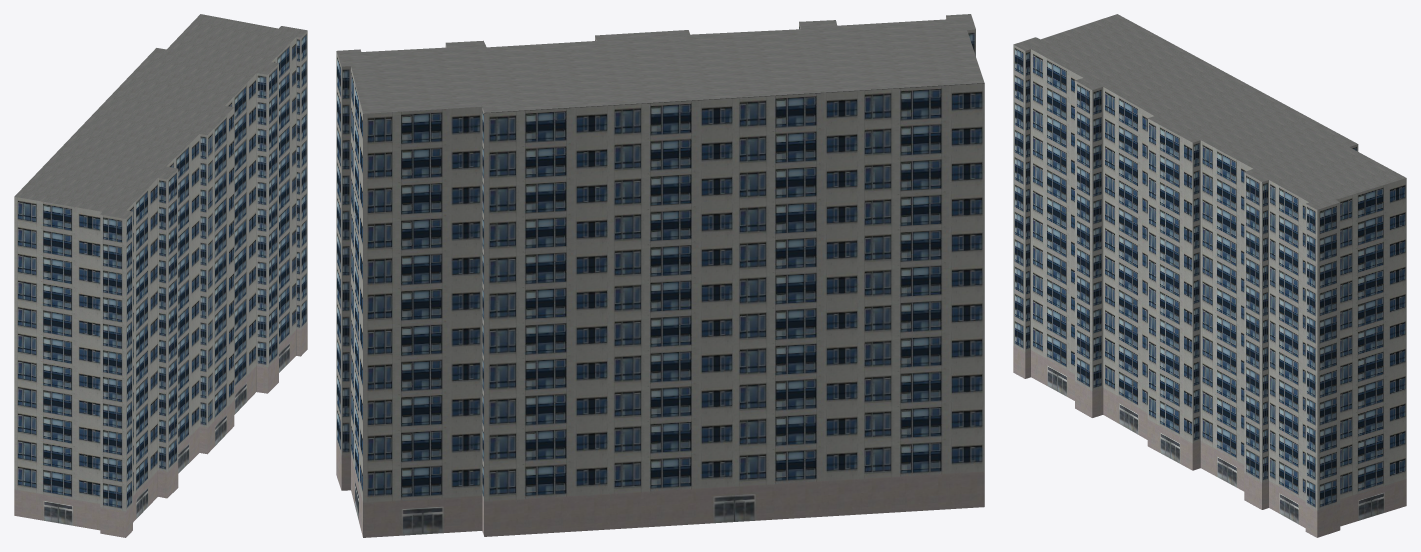
The picture shows the model from 3 angles, left to right: view 1: azimuth 30°, elevation 25°; view 2: azimuth 150°, elevation 25°; view 3: azimuth 270°, elevation 25°; orthographic projection. The views are drawn at different scales.
Parts seen in each view (by area): view 1: BuildingMaster_1978192950684464188700000000_0, BuildingMaster_1978192950684464188700000000_1; view 2: BuildingMaster_1978192950684464188700000000_0, BuildingMaster_1978192950684464188700000000_1; view 3: BuildingMaster_1978192950684464188700000000_0, BuildingMaster_1978192950684464188700000000_1.
Boxes of the visible parts, x1,y1,x2,y2 form: BuildingMaster_1978192950684464188700000000_0: [14, 31, 307, 537]; BuildingMaster_1978192950684464188700000000_1: [14, 14, 307, 218]; BuildingMaster_1978192950684464188700000000_0: [336, 16, 984, 537]; BuildingMaster_1978192950684464188700000000_1: [336, 14, 984, 113]; BuildingMaster_1978192950684464188700000000_0: [1013, 45, 1406, 537]; BuildingMaster_1978192950684464188700000000_1: [1013, 14, 1405, 209].
Size of the model in its own units: 53.81 by 42 by 45.66.
2 materials, 2 textured.
